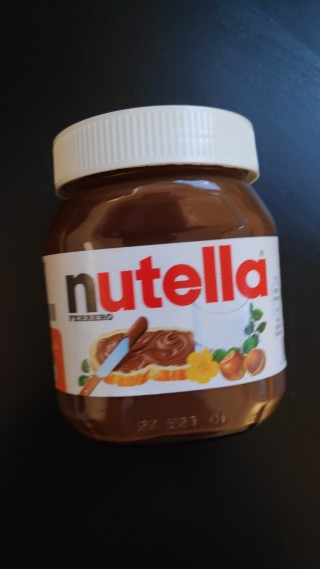nutella: (37, 101, 290, 444)
